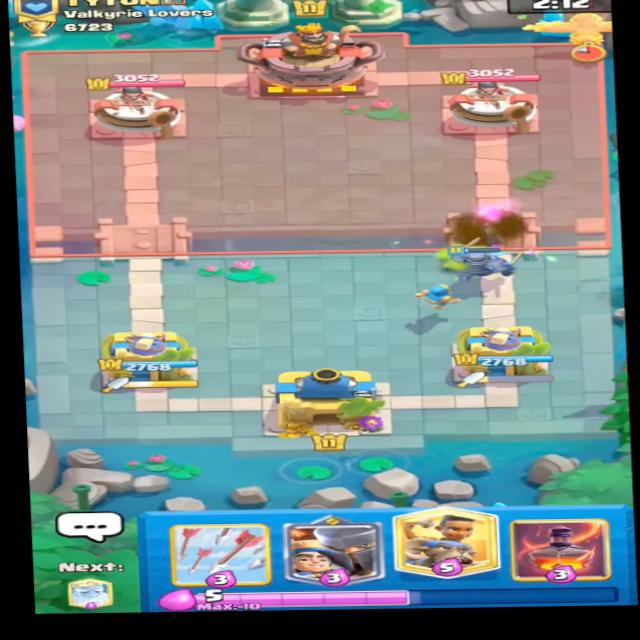phoenix: (513, 8, 640, 57)
